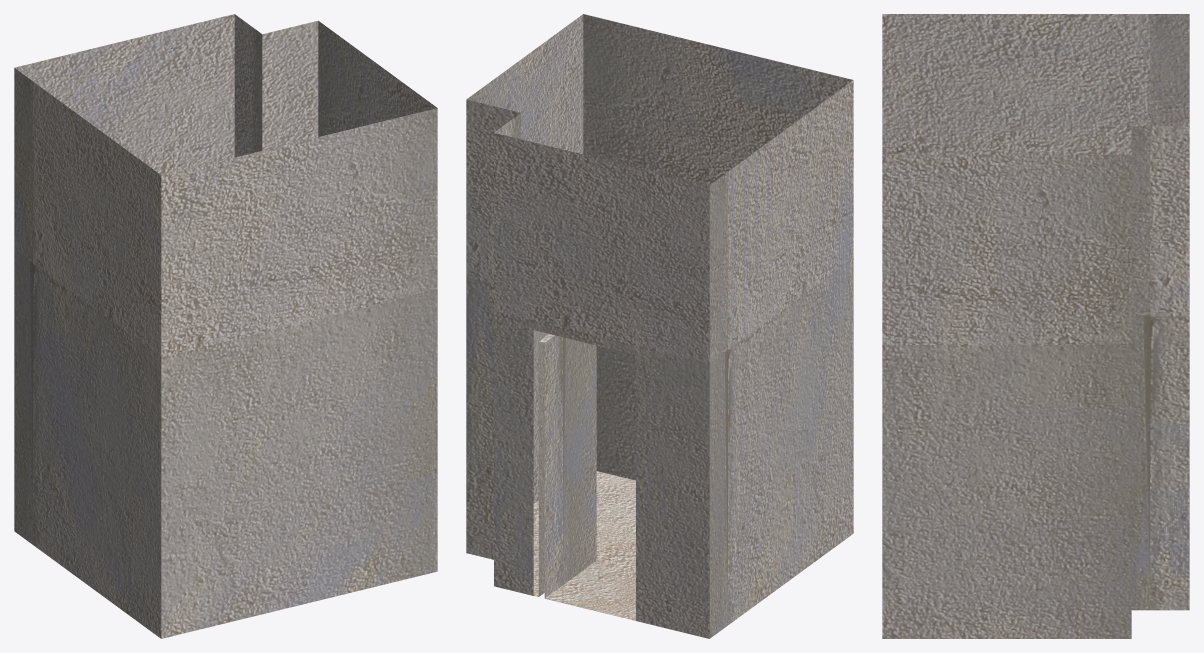
The model's file is CUA002.obj.
3 views of the same model, side by side, from view 1: azimuth 30°, elevation 25°; view 2: azimuth 150°, elevation 25°; view 3: azimuth 270°, elevation 25° (orthographic). The views are drawn at different scales.
Visible parts, largest first — view 1: Mesh1 CUA002 Model; view 2: Mesh1 CUA002 Model; view 3: Mesh1 CUA002 Model.
Part boxes in pixels (<box>): Mesh1 CUA002 Model: <box>14,14,437,638</box>; Mesh1 CUA002 Model: <box>466,14,853,638</box>; Mesh1 CUA002 Model: <box>882,14,1189,638</box>.
Bounding box in the file's own units: 2.25 × 3.6 × 2.07.
Materials: 3 (2 with a texture image).
